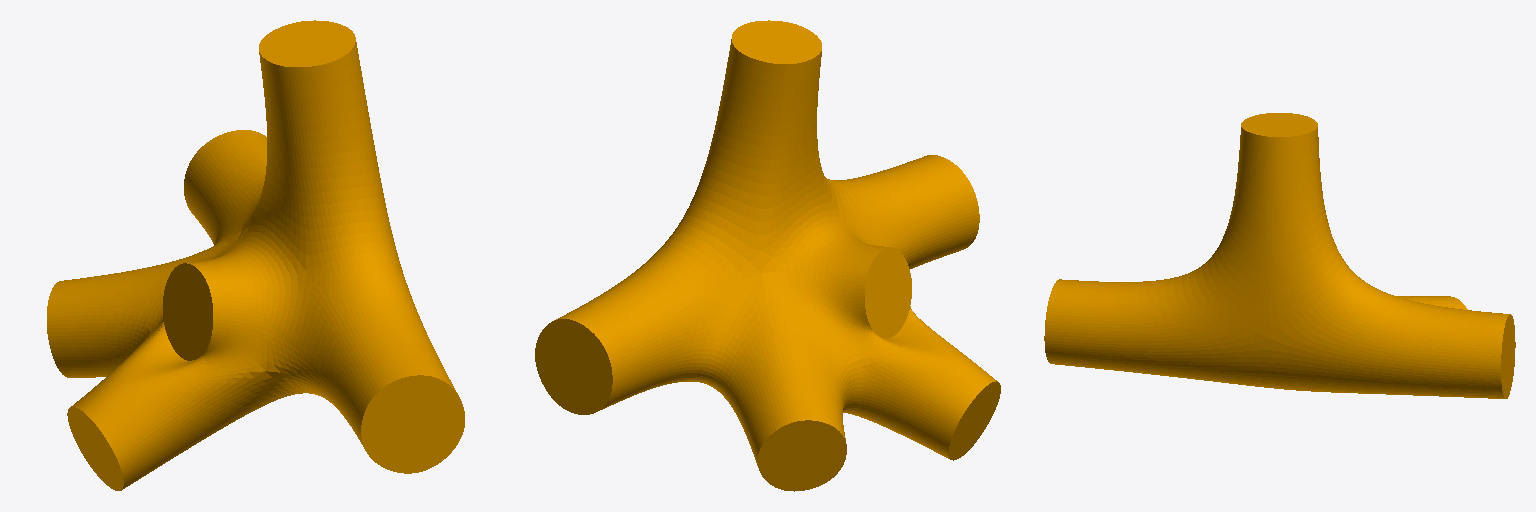
robot.urdf — object:
<robot name="object">
  <link name="object">
    <visual>
      <origin xyz="0 0 0"/>
      <geometry>
        <mesh filename="visual.obj" scale="1 1 1"/>
      </geometry>
    </visual>
    <collision>
      <origin xyz="0 0 0"/>
      <geometry>
        <mesh filename="visual.obj" scale="1 1 1"/>
      </geometry>
    </collision>
    <inertial>
      <mass value="0.05"/>
      <inertia ixx="0.00015887610894652489" iyy="9.52552816443073e-05" izz="0.00015335181743759193" ixy="-8.064112082377058e-06" ixz="-2.0508650228531684e-05" iyz="9.09295967856866e-06"/>
    </inertial>
  </link>
</robot>

--- Facts derived from the render (not from the file) ---
Views: 3 orthographic renders of the robot side by side, from view 1: azimuth 30°, elevation 25°; view 2: azimuth 150°, elevation 25°; view 3: azimuth 270°, elevation 25°.
Robot: object — 1 links, 0 joints (none); root link object; default pose: every joint at zero.
Visible links, largest first — view 1: object; view 2: object; view 3: object.
Link boxes in pixels (x1,y1,x2,y2): object: (47, 20, 464, 490); object: (535, 20, 1000, 491); object: (1044, 113, 1515, 398).
Size in the robot's own frame: 0.1561 by 0.235 by 0.1736 metres.
1 mesh visuals loaded from 1 distinct referenced files (1 OBJ).
